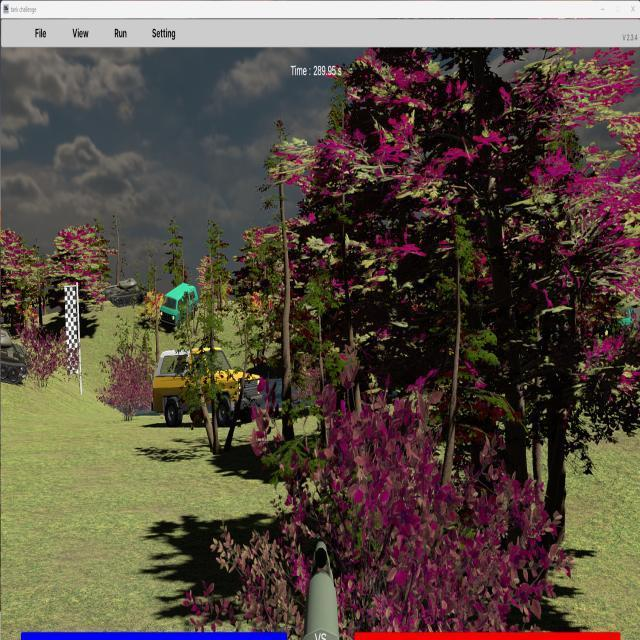Tank: (0, 324, 30, 385), (92, 277, 147, 308)
car: (152, 347, 256, 427), (160, 283, 198, 329)
